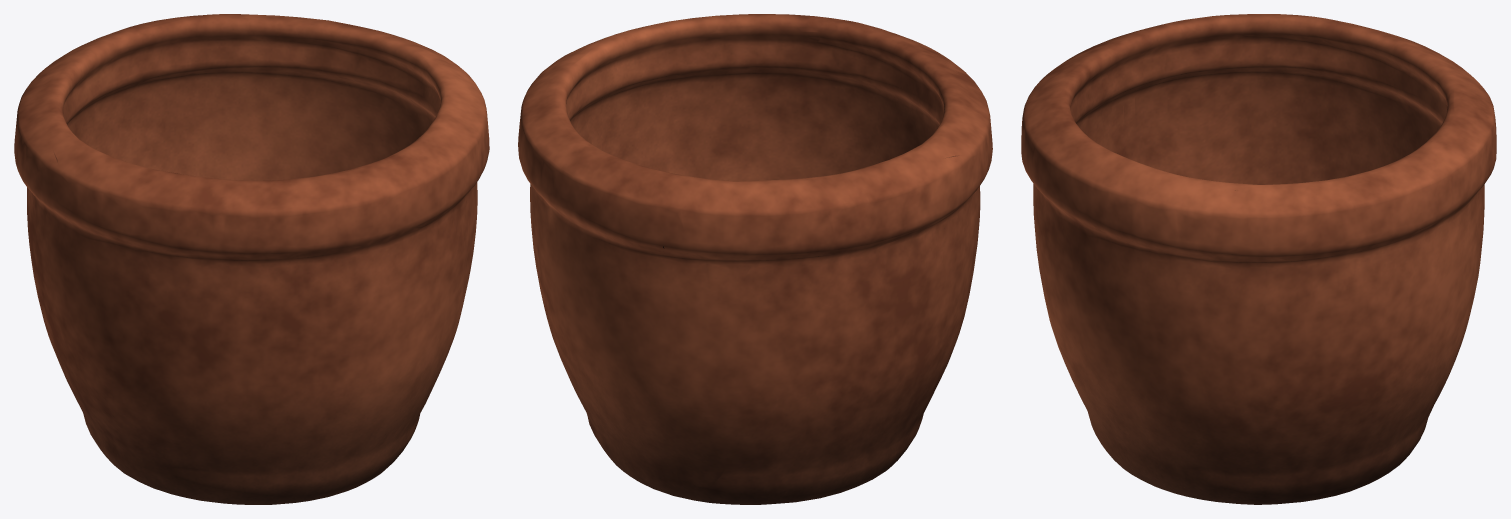
File: terracotta-pot-v002.glb
3 renders of one model, left to right at view 1: azimuth 30°, elevation 25°; view 2: azimuth 150°, elevation 25°; view 3: azimuth 270°, elevation 25°, orthographic.
Parts seen in each view (by area): view 1: terracotta-pot; view 2: terracotta-pot; view 3: terracotta-pot.
Boxes of the visible parts, left/top/right/bottom form: terracotta-pot: left=14, top=14, right=489, bottom=504; terracotta-pot: left=518, top=14, right=992, bottom=504; terracotta-pot: left=1021, top=14, right=1496, bottom=504.
Bounding box in the file's own units: 0.5619 × 0.45 × 0.5609.
Materials: 1 (1 with a texture image).
